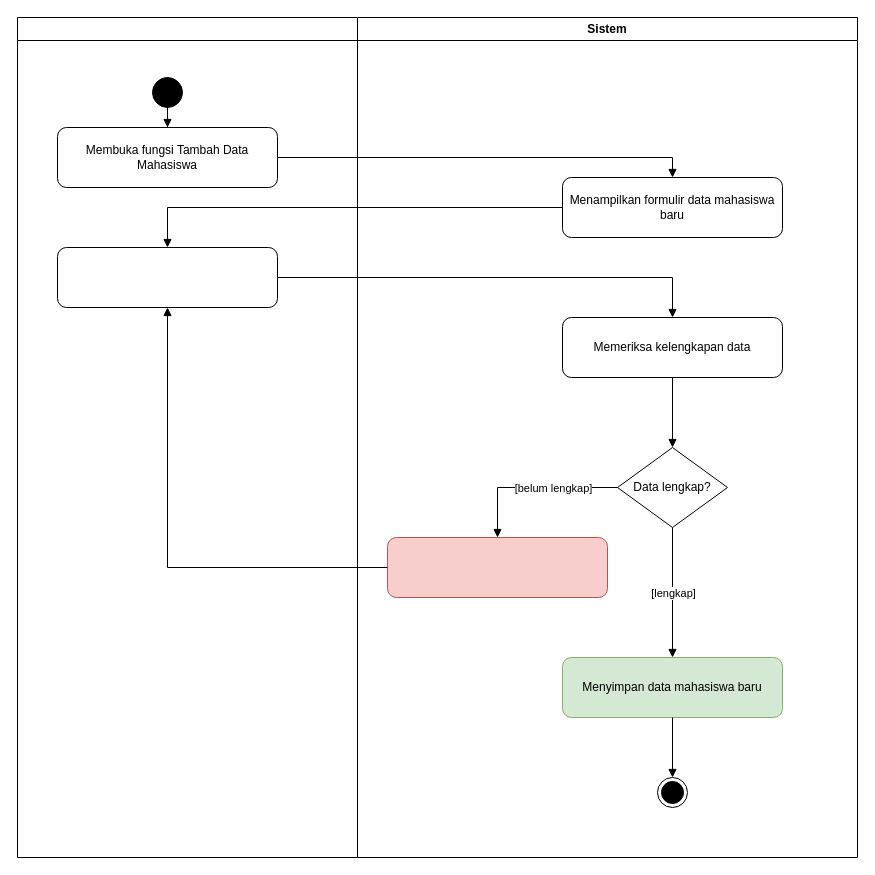
Some shapes in this 875 by 875 pixel diagram are drawn without their labels. Each missing label, with the box of its shape:
Admin Akademik: (16, 16, 358, 858)
Menampilkan pesan data tidak lengkap: (386, 536, 608, 598)
Mengisi data mahasiswa baru: (56, 246, 278, 308)
